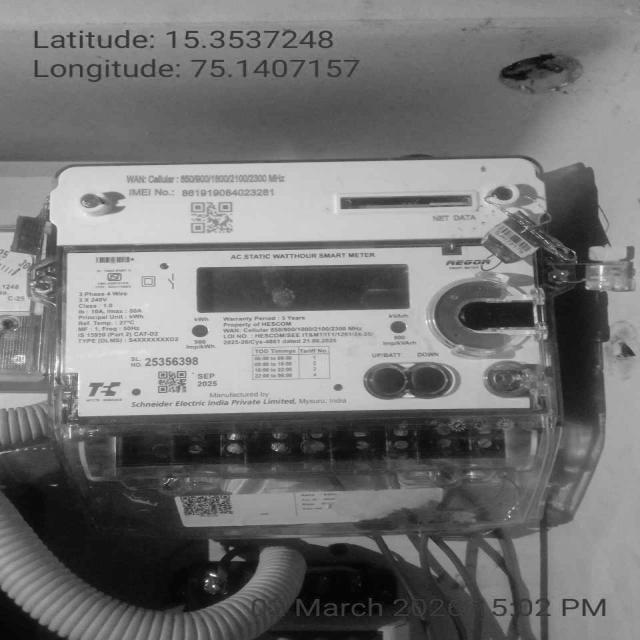meter: (47, 168, 556, 414)
